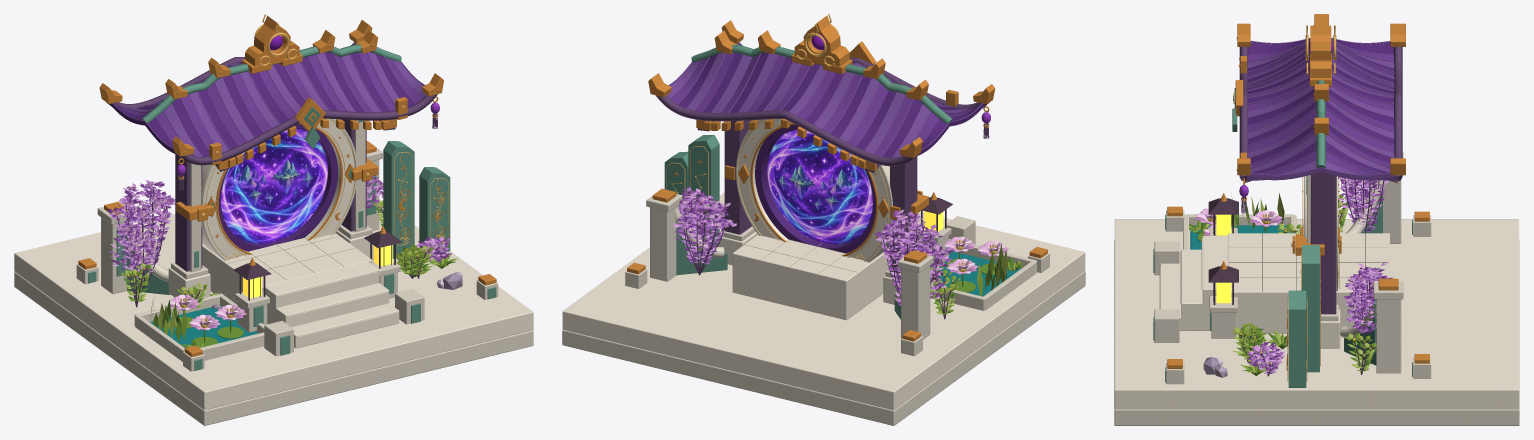
File: secret-v18.glb
3 renders of one model, left to right at view 1: azimuth 30°, elevation 25°; view 2: azimuth 150°, elevation 25°; view 3: azimuth 270°, elevation 25°, orthographic. The views are drawn at different scales.
Visible parts, largest first — view 1: GEO-export-MAT-secret-stone-light.008, GEO-export-MAT-secret-ivory.008, GEO-export-MAT-secret-gold.008, GEO-export-MAT-secret-jade-light.008, GEO-export-MAT-secret-portal-field.008, GEO-export-MAT-secret-roof-purple-0.008, GEO-export-MAT-secret-roof-purple-2.008, GEO-export-MAT-secret-purple-wood.008, GEO-export-MAT-secret-roof-purple-1.008, GEO-export-MAT-secret-gold-edge.008, GEO-export-MAT-secret-bloom-foliage-3.008, GEO-export-MAT-secret-bloom-foliage-2.008 (+11 smaller); view 2: GEO-export-MAT-secret-stone-light.008, GEO-export-MAT-secret-ivory.008, GEO-export-MAT-secret-portal-field.008, GEO-export-MAT-secret-gold.008, GEO-export-MAT-secret-roof-purple-0.008, GEO-export-MAT-secret-purple-wood.008, GEO-export-MAT-secret-roof-purple-2.008, GEO-export-MAT-secret-roof-purple-1.008, GEO-export-MAT-secret-jade-light.008, GEO-export-MAT-secret-bloom-foliage-2.008, GEO-export-MAT-secret-bloom-foliage-3.008, GEO-export-MAT-secret-bloom-foliage-1.008 (+7 smaller); view 3: GEO-export-MAT-secret-stone-light.008, GEO-export-MAT-secret-ivory.008, GEO-export-MAT-secret-roof-purple-2.008, GEO-export-MAT-secret-roof-purple-0.008, GEO-export-MAT-secret-purple-wood.008, GEO-export-MAT-secret-roof-purple-1.008, GEO-export-MAT-secret-gold.008, GEO-export-MAT-secret-jade-light.008, GEO-export-MAT-secret-bloom-foliage-3.008, GEO-export-MAT-secret-gold-edge.008, GEO-export-MAT-secret-bloom-foliage-0.008, GEO-export-MAT-secret-dark-bronze.008 (+9 smaller).
Boxes of the visible parts, bbox=[...] form: GEO-export-MAT-secret-stone-light.008: bbox=[14, 118, 533, 410]; GEO-export-MAT-secret-ivory.008: bbox=[14, 119, 533, 425]; GEO-export-MAT-secret-gold.008: bbox=[78, 16, 496, 356]; GEO-export-MAT-secret-jade-light.008: bbox=[88, 44, 496, 370]; GEO-export-MAT-secret-portal-field.008: bbox=[221, 128, 327, 243]; GEO-export-MAT-secret-roof-purple-0.008: bbox=[110, 52, 414, 251]; GEO-export-MAT-secret-roof-purple-2.008: bbox=[112, 52, 426, 156]; GEO-export-MAT-secret-purple-wood.008: bbox=[106, 42, 439, 307]; GEO-export-MAT-secret-roof-purple-1.008: bbox=[120, 52, 422, 155]; GEO-export-MAT-secret-gold-edge.008: bbox=[201, 14, 448, 260]; GEO-export-MAT-secret-bloom-foliage-3.008: bbox=[110, 179, 443, 274]; GEO-export-MAT-secret-bloom-foliage-2.008: bbox=[109, 179, 449, 277]; GEO-export-MAT-secret-stone-light.008: bbox=[562, 119, 1085, 410]; GEO-export-MAT-secret-ivory.008: bbox=[562, 119, 1085, 425]; GEO-export-MAT-secret-portal-field.008: bbox=[767, 129, 872, 244]; GEO-export-MAT-secret-gold.008: bbox=[627, 15, 1047, 341]; GEO-export-MAT-secret-roof-purple-0.008: bbox=[678, 52, 984, 253]; GEO-export-MAT-secret-purple-wood.008: bbox=[656, 42, 989, 319]; GEO-export-MAT-secret-roof-purple-2.008: bbox=[666, 52, 983, 157]; GEO-export-MAT-secret-roof-purple-1.008: bbox=[670, 53, 974, 156]; GEO-export-MAT-secret-jade-light.008: bbox=[664, 44, 952, 246]; GEO-export-MAT-secret-bloom-foliage-2.008: bbox=[675, 187, 950, 301]; GEO-export-MAT-secret-bloom-foliage-3.008: bbox=[673, 188, 949, 298]; GEO-export-MAT-secret-bloom-foliage-1.008: bbox=[674, 190, 952, 305]; GEO-export-MAT-secret-stone-light.008: bbox=[1114, 175, 1519, 409]; GEO-export-MAT-secret-ivory.008: bbox=[1114, 152, 1519, 425]; GEO-export-MAT-secret-roof-purple-2.008: bbox=[1245, 38, 1397, 180]; GEO-export-MAT-secret-roof-purple-0.008: bbox=[1247, 39, 1394, 173]; GEO-export-MAT-secret-purple-wood.008: bbox=[1239, 47, 1402, 376]; GEO-export-MAT-secret-roof-purple-1.008: bbox=[1246, 41, 1395, 180]; GEO-export-MAT-secret-gold.008: bbox=[1167, 14, 1429, 368]; GEO-export-MAT-secret-jade-light.008: bbox=[1153, 80, 1412, 387]; GEO-export-MAT-secret-bloom-foliage-3.008: bbox=[1248, 178, 1388, 368]; GEO-export-MAT-secret-gold-edge.008: bbox=[1238, 25, 1339, 381]; GEO-export-MAT-secret-bloom-foliage-0.008: bbox=[1247, 176, 1392, 368]; GEO-export-MAT-secret-dark-bronze.008: bbox=[1208, 198, 1238, 304].
Size of the model in its own units: 10 by 8.59 by 10.
Materials: 44 (7 with a texture image).
